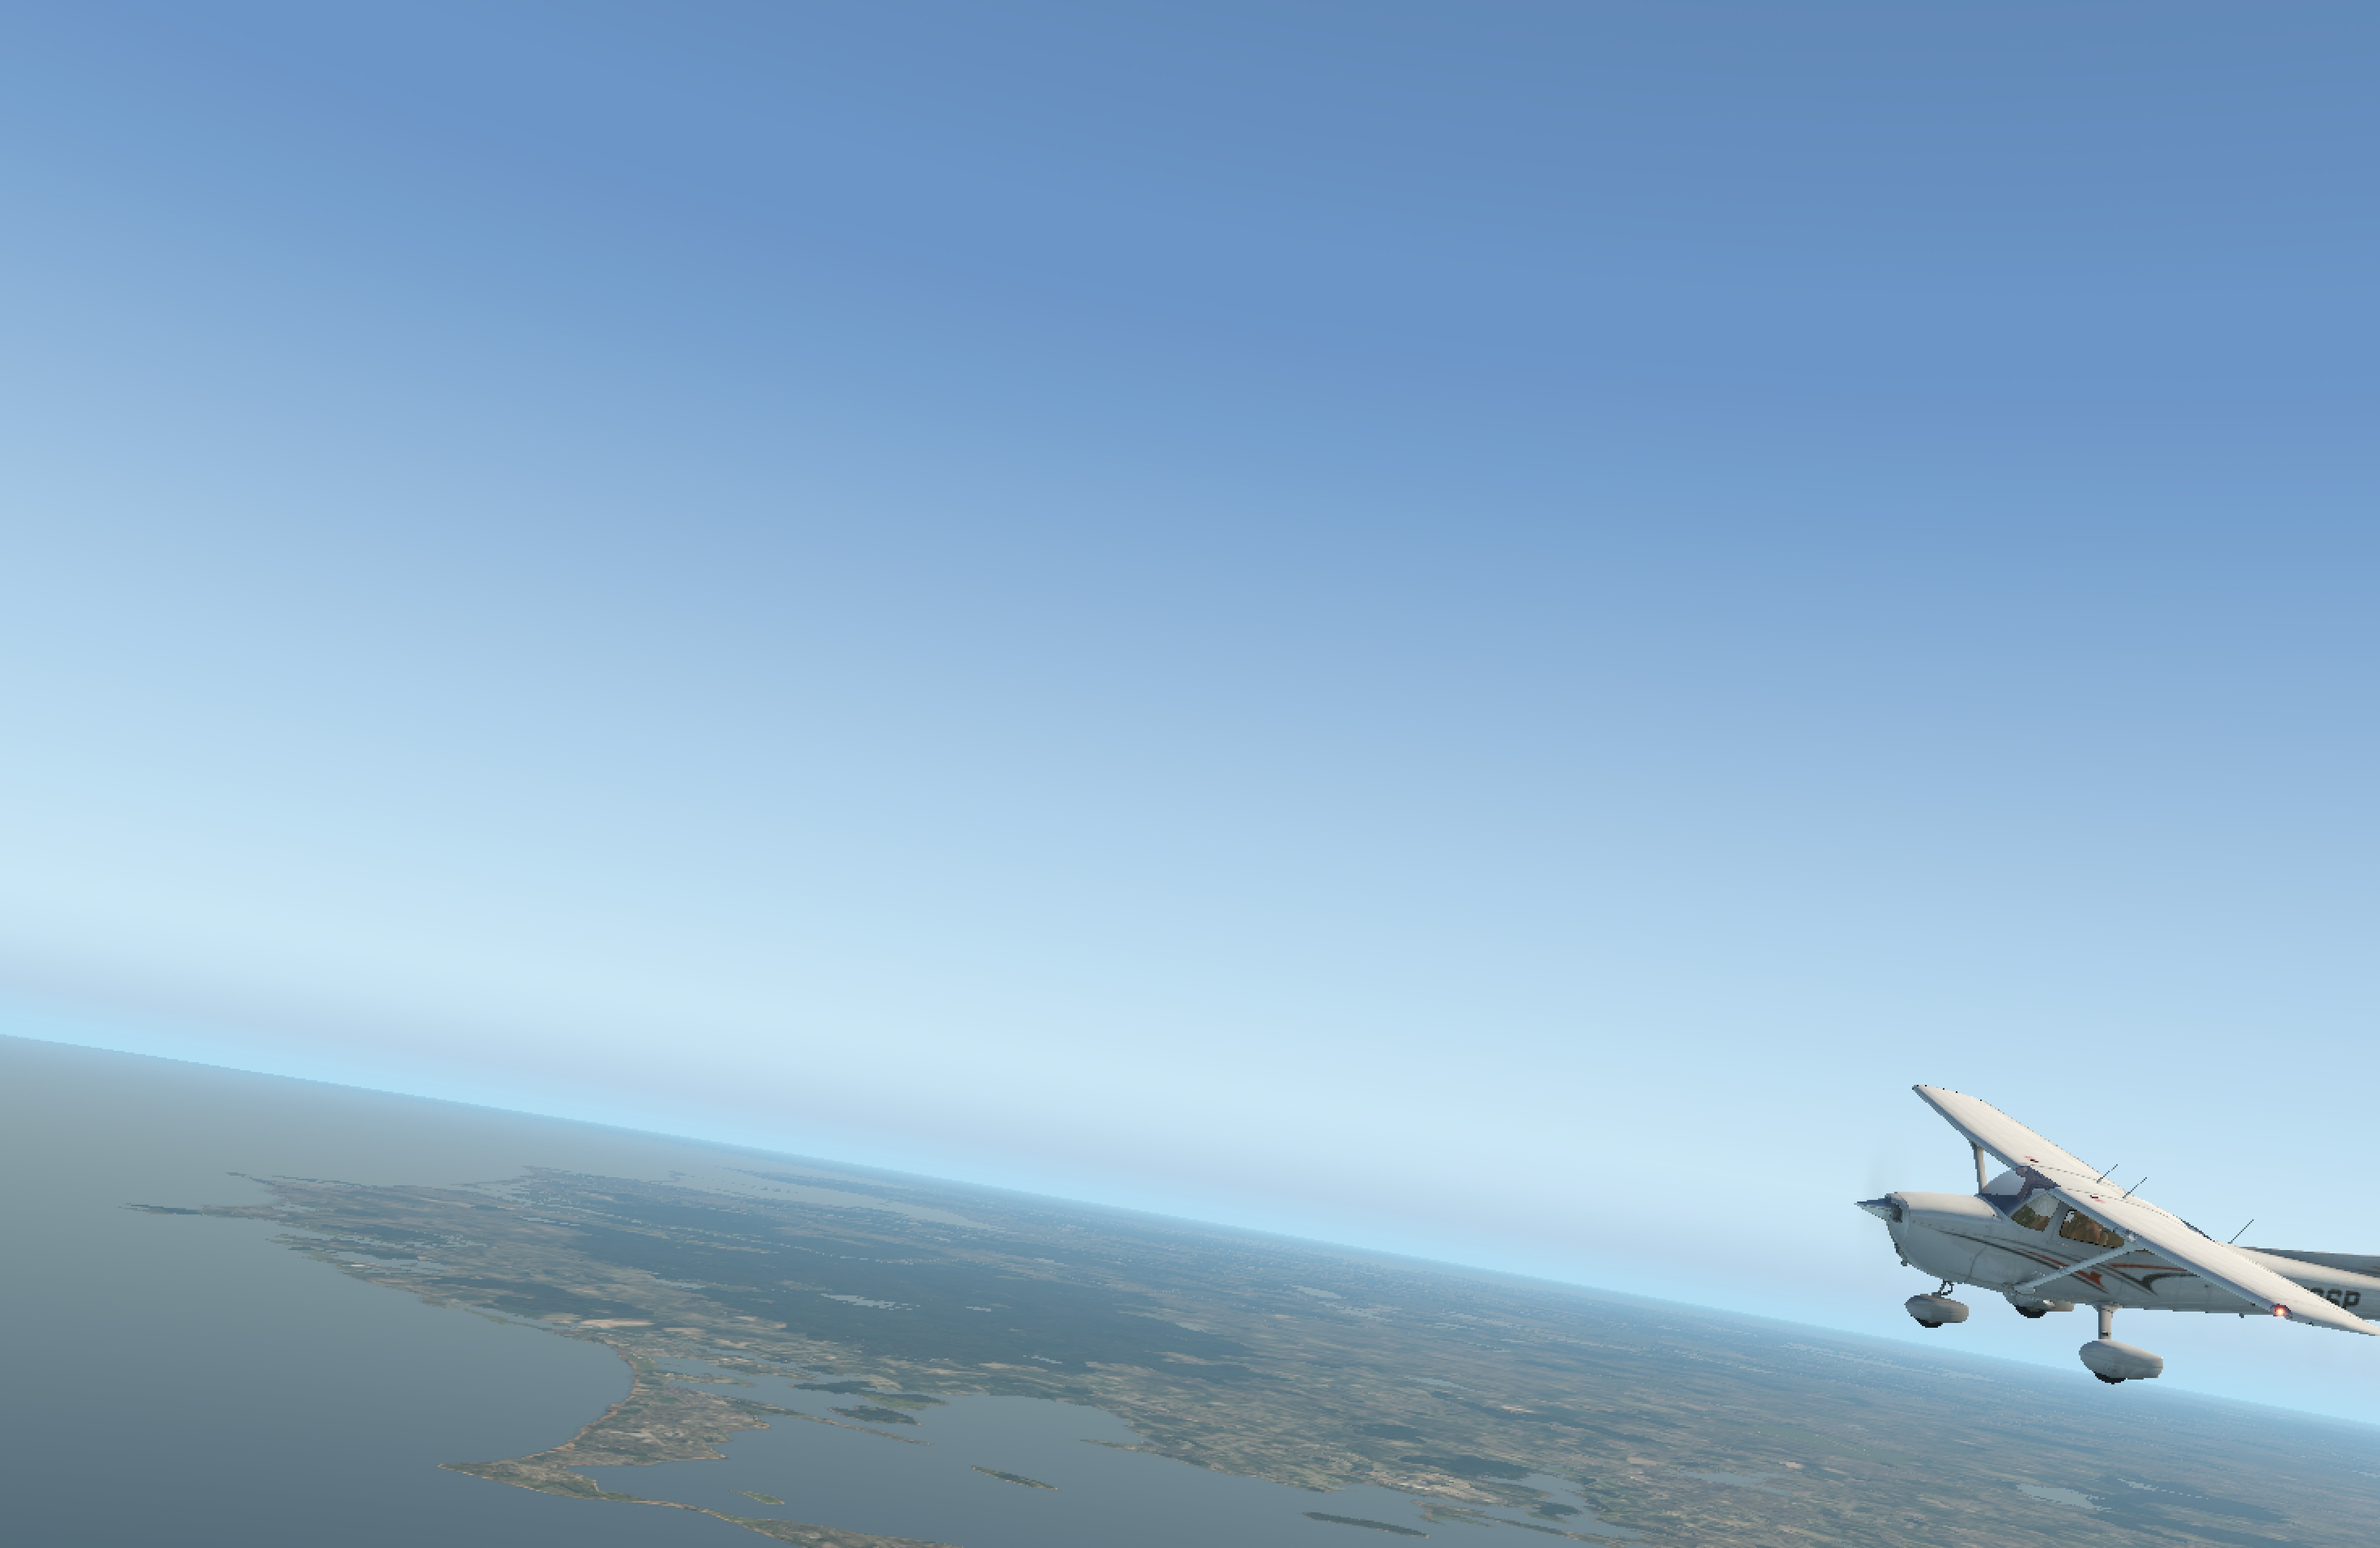aircraft: (1764, 1123, 2359, 1345)
